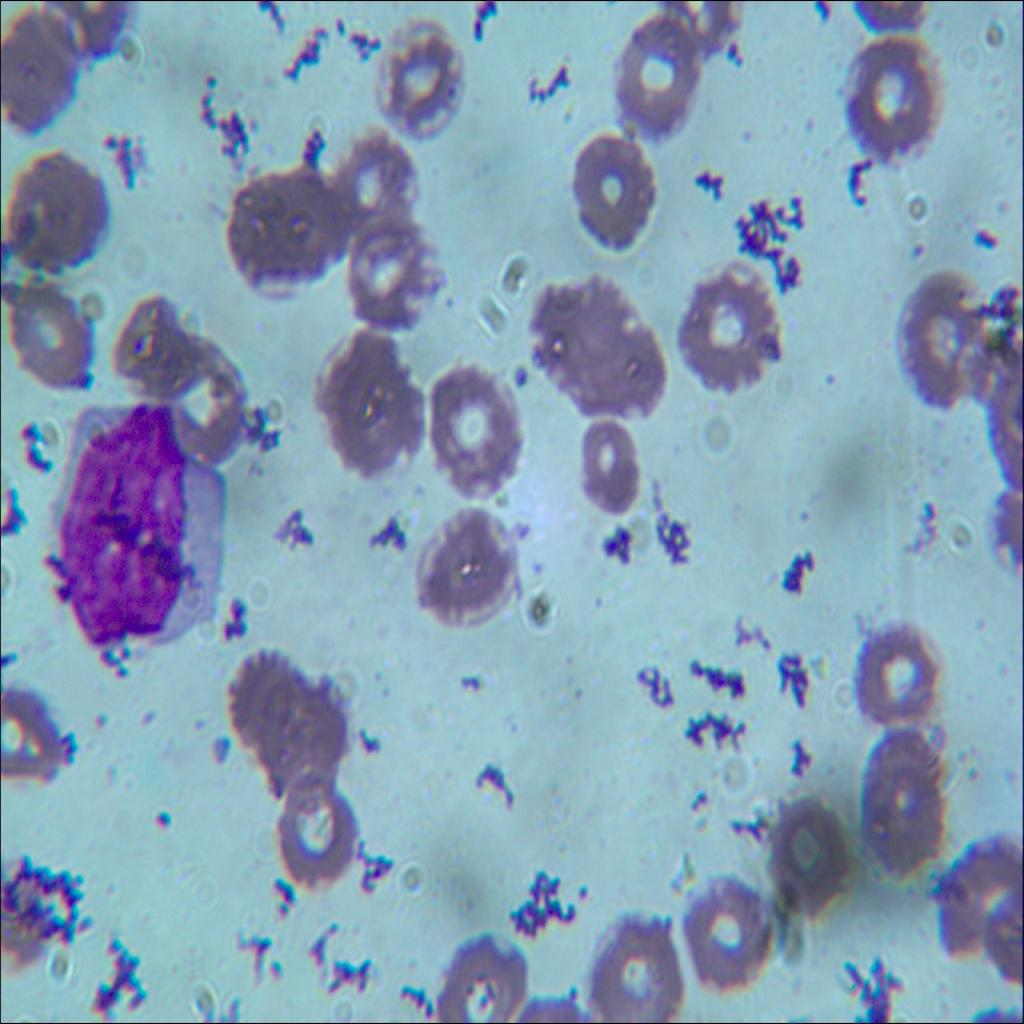Eritrosit: (544, 278, 666, 420), (228, 161, 338, 294), (675, 257, 781, 393), (318, 324, 418, 468), (8, 139, 114, 271), (426, 361, 528, 494), (844, 28, 944, 161), (414, 522, 524, 628), (858, 738, 942, 868), (898, 278, 984, 404), (848, 618, 946, 728), (586, 911, 682, 1023), (686, 876, 778, 992), (612, 18, 702, 136), (939, 837, 1023, 959), (770, 795, 853, 918), (111, 286, 199, 402), (223, 642, 313, 754), (376, 19, 469, 126), (6, 274, 94, 387), (1, 4, 81, 128), (342, 221, 438, 321), (572, 131, 658, 242), (169, 354, 250, 467), (430, 928, 522, 1023), (266, 694, 352, 790), (279, 779, 354, 884), (330, 134, 409, 230), (0, 680, 66, 787), (578, 422, 644, 518)
Limfoblast: (59, 407, 222, 654)
Platelet: (899, 225, 931, 272), (146, 805, 176, 848), (508, 352, 534, 401), (559, 969, 584, 1008), (790, 497, 818, 525), (574, 879, 591, 911), (824, 361, 842, 387)
